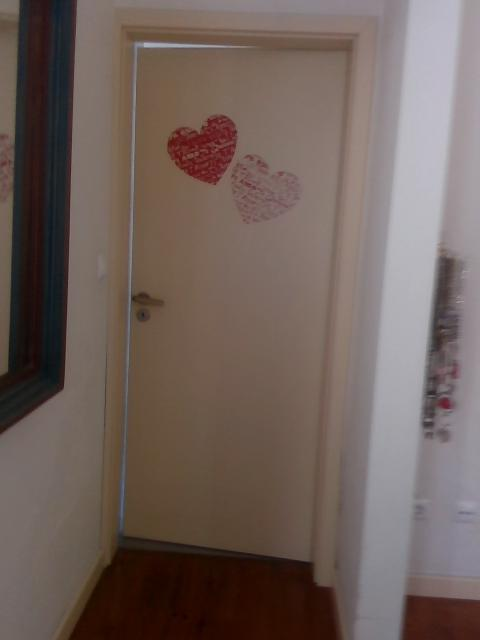closed_door: (111, 29, 355, 564)
